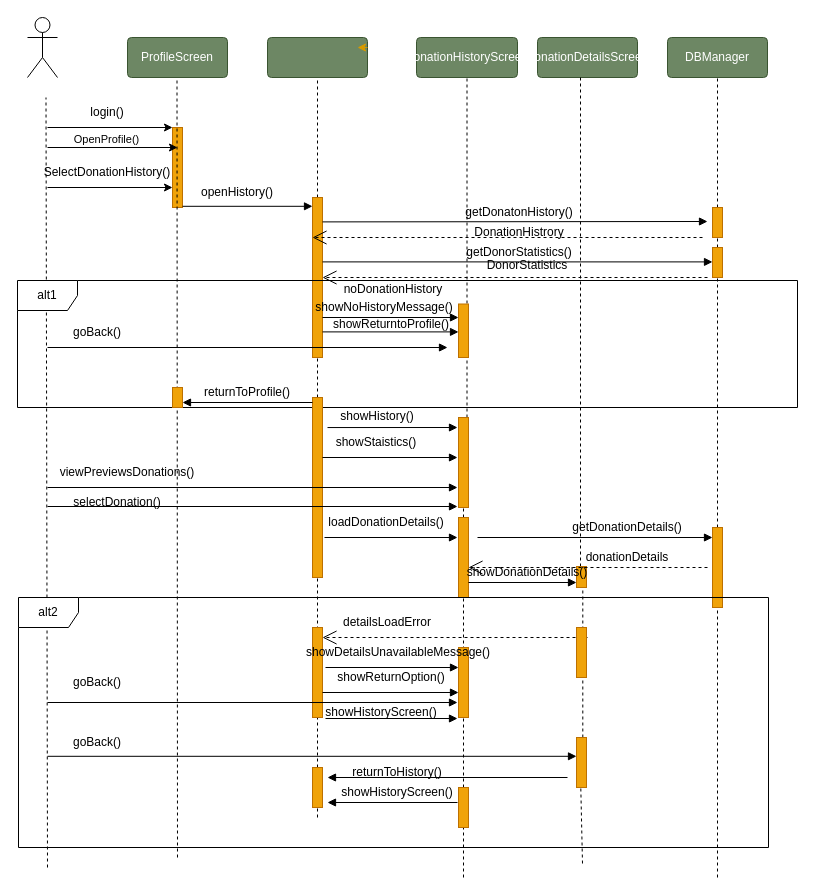
Image size: 815x896. Some labels were removed from this diagram. The shapes that lost their labels are listed below. From the top down, each one's centre as x and y in pixels, then its label:
(42,47): Donor
(317,57): DonationHistorycontroller
